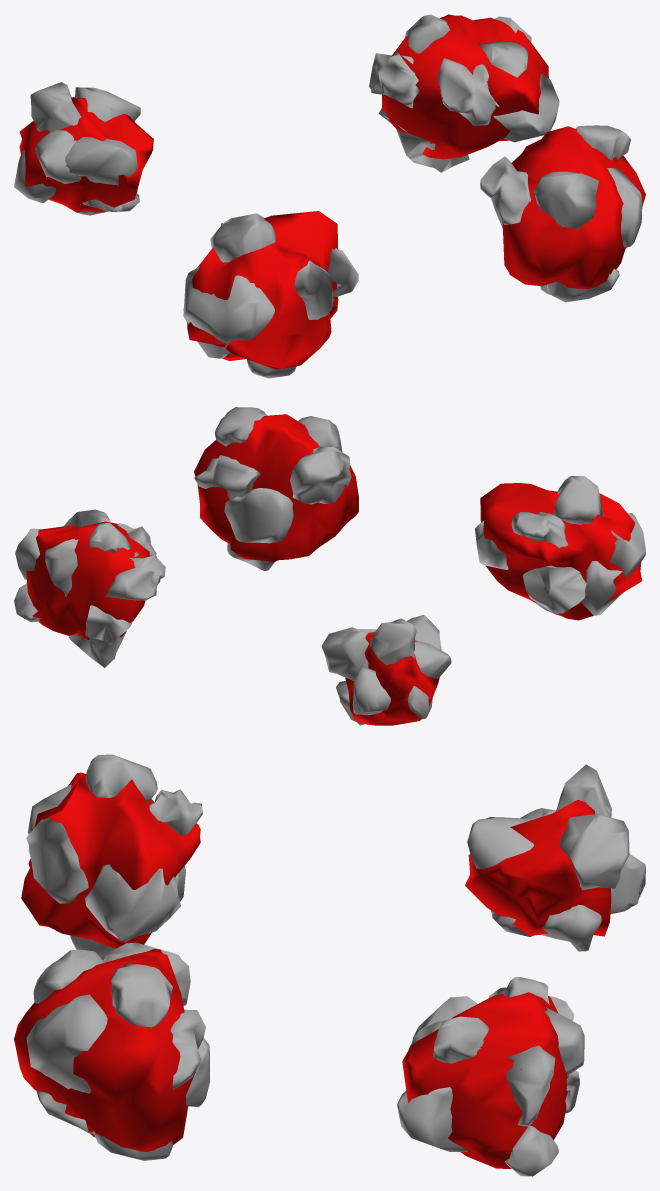
Rendered from Bomb_001.fbx.
3 views of the same model, one above another, from view 1: azimuth 30°, elevation 25°; view 2: azimuth 150°, elevation 25°; view 3: azimuth 270°, elevation 25° (orthographic). The views are drawn at different scales.
Parts seen in each view (by area): view 1: BombMesh_003, BombMesh_001, BombMesh_004, BombMesh_002; view 2: BombMesh_004, BombMesh_003, BombMesh_001, BombMesh_002; view 3: BombMesh_004, BombMesh_001, BombMesh_003, BombMesh_002.
Boxes of the visible parts, x1=… form: BombMesh_003: x1=183, y1=211, x2=358, y2=378; BombMesh_001: x1=369, y1=14, x2=559, y2=172; BombMesh_004: x1=480, y1=125, x2=645, y2=302; BombMesh_002: x1=14, y1=82, x2=153, y2=215; BombMesh_004: x1=194, y1=407, x2=358, y2=570; BombMesh_003: x1=475, y1=476, x2=645, y2=620; BombMesh_001: x1=14, y1=509, x2=165, y2=667; BombMesh_002: x1=321, y1=615, x2=451, y2=725; BombMesh_004: x1=14, y1=942, x2=209, y2=1160; BombMesh_001: x1=397, y1=977, x2=584, y2=1176; BombMesh_003: x1=21, y1=754, x2=202, y2=957; BombMesh_002: x1=465, y1=764, x2=645, y2=951.
Bounding box in the file's own units: 569 × 175 × 499.
